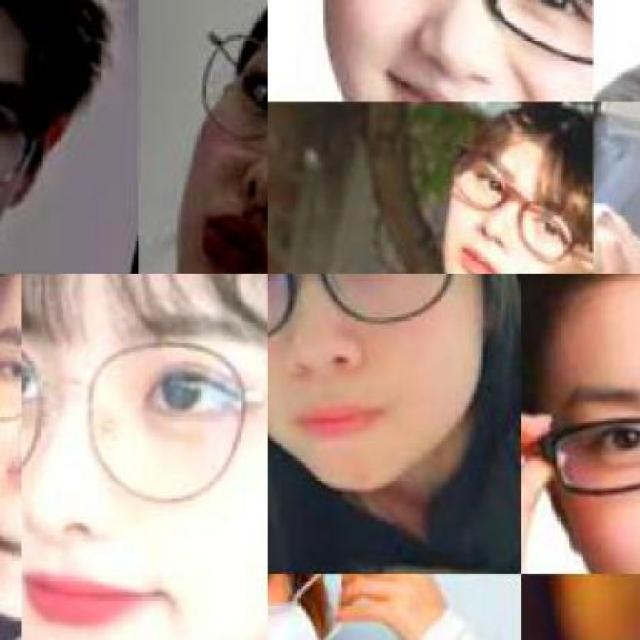glasses: (23, 337, 267, 511), (446, 148, 579, 263), (268, 274, 489, 334), (523, 414, 640, 509), (177, 28, 268, 142)
